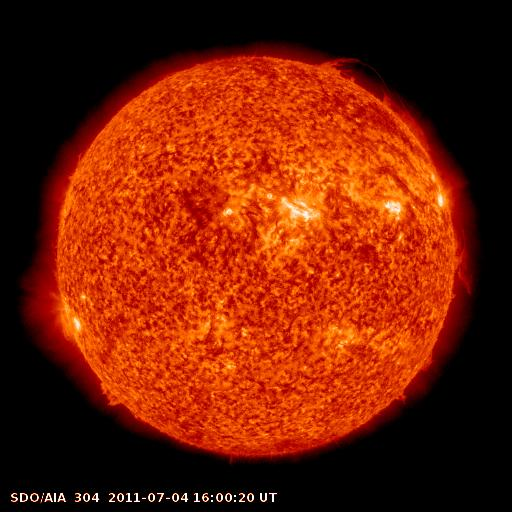prominence: (316, 48, 430, 154), (447, 215, 481, 297), (92, 373, 133, 414)
